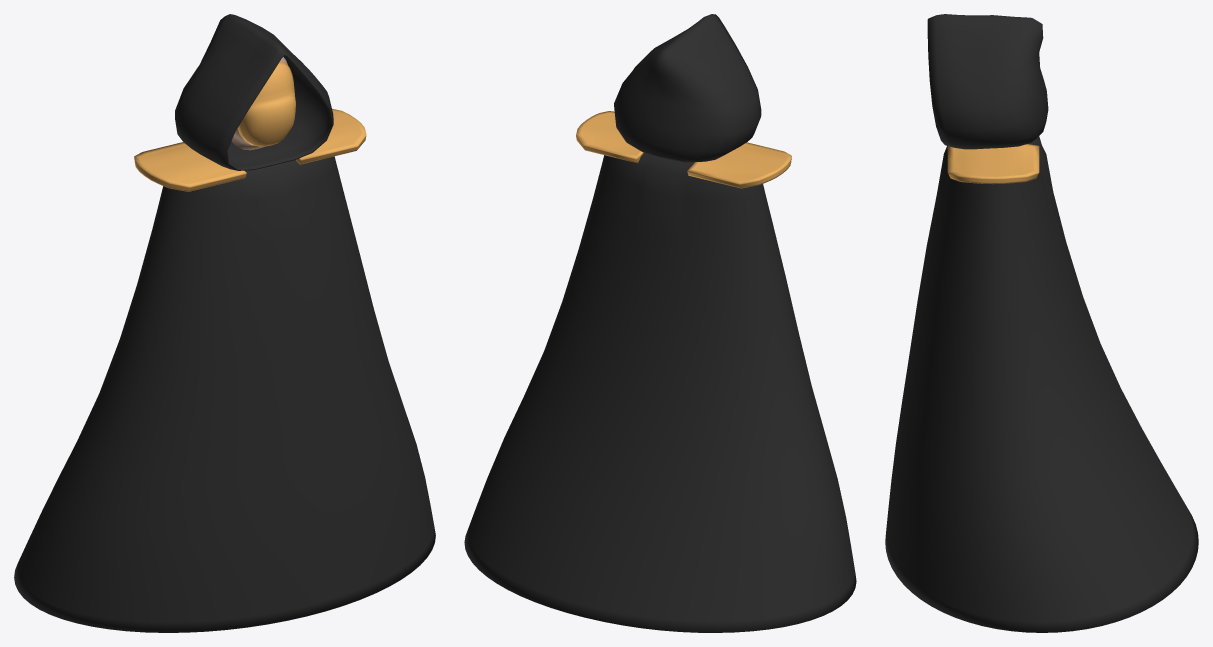
Rendered from MagicianGeneral.fbx.
The picture shows the model from 3 angles, left to right: view 1: azimuth 30°, elevation 25°; view 2: azimuth 150°, elevation 25°; view 3: azimuth 270°, elevation 25°; orthographic projection. The views are drawn at different scales.
Visible parts, largest first — view 1: Cape, Hood, Epelet R, Mask, Epelet L; view 2: Cape, Hood, Epelet R, Epelet L; view 3: Cape, Hood, Epelet L.
Part boxes in pixels (x1=…): Cape: x1=14, y1=156, x2=435, y2=632; Hood: x1=175, y1=14, x2=333, y2=170; Epelet R: x1=134, y1=142, x2=246, y2=191; Mask: x1=237, y1=61, x2=295, y2=146; Epelet L: x1=296, y1=109, x2=366, y2=164; Cape: x1=464, y1=152, x2=856, y2=632; Hood: x1=614, y1=14, x2=761, y2=162; Epelet R: x1=687, y1=142, x2=791, y2=188; Epelet L: x1=576, y1=111, x2=643, y2=163; Cape: x1=885, y1=136, x2=1198, y2=632; Hood: x1=927, y1=14, x2=1048, y2=149; Epelet L: x1=947, y1=144, x2=1039, y2=184.
Size of the model in its own units: 71.33 by 96.95 by 51.93.
